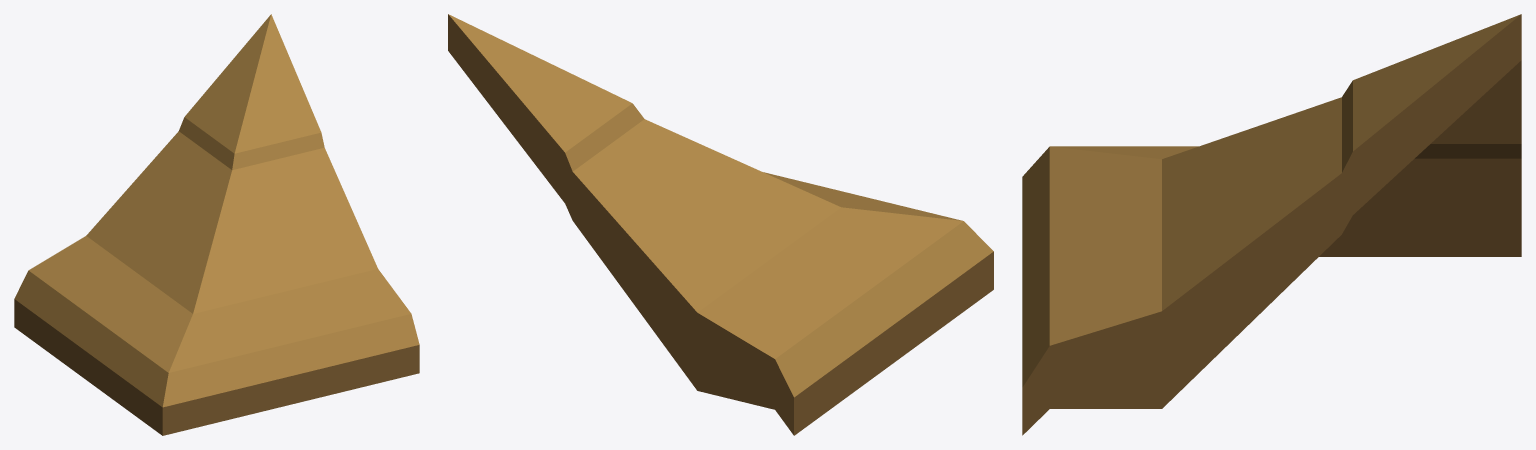
File: thatched_hip.glb
3 views of the same model, side by side, from view 1: azimuth 30°, elevation 25°; view 2: azimuth 150°, elevation 25°; view 3: azimuth 270°, elevation 25° (orthographic). The views are drawn at different scales.
Visible parts, largest first — view 1: Thatched hip; view 2: Thatched hip; view 3: Thatched hip.
Part boxes in pixels (bbox=[...]): Thatched hip: bbox=[14, 14, 419, 435]; Thatched hip: bbox=[448, 14, 993, 435]; Thatched hip: bbox=[1022, 14, 1521, 435].
Size of the model in its own units: 1.18 by 1.1 by 1.18.
